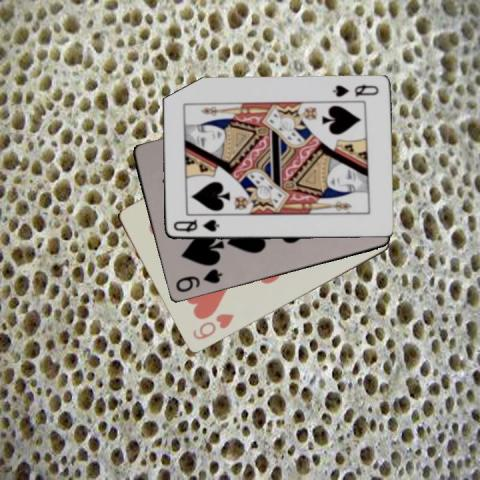6h: (189, 311, 236, 342)
9s: (172, 266, 224, 294)
Qs: (170, 217, 220, 234), (330, 82, 380, 99)
